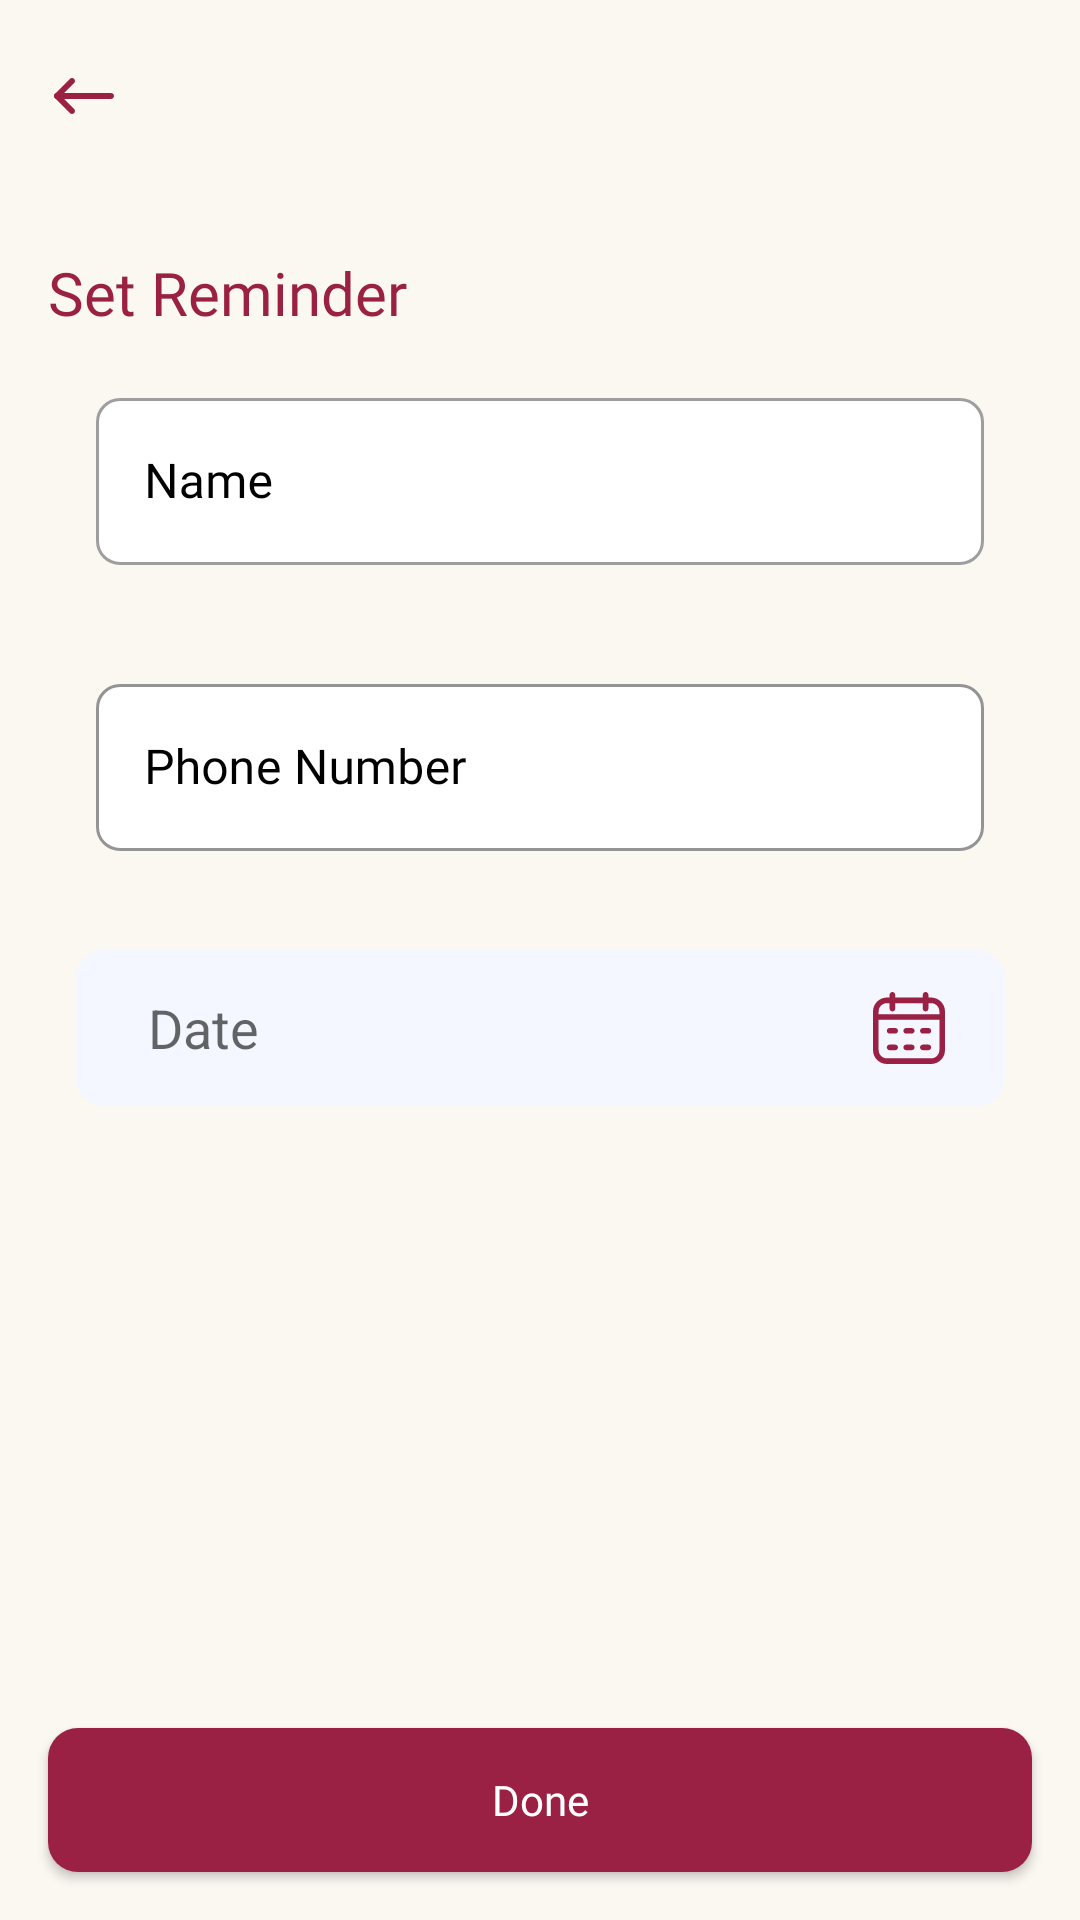

Screen size 1080px x 1920px. Icon name, then its center in pixels as (x,y):
left arrow: (84,96)
